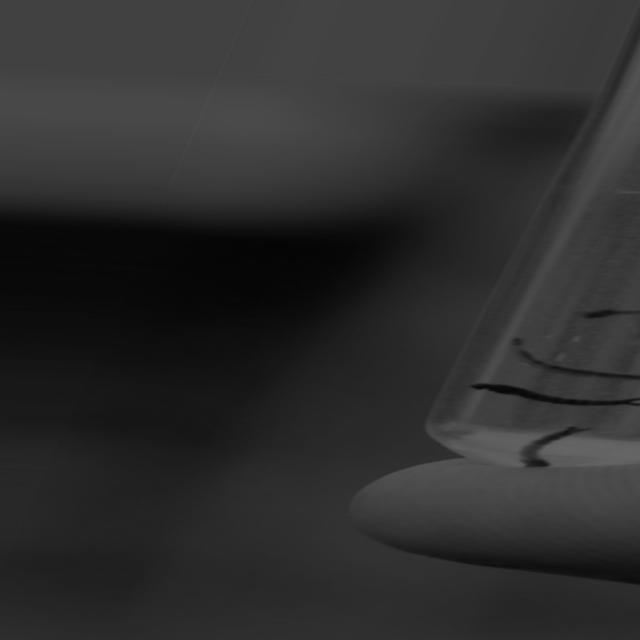larvas: (508, 338, 640, 382), (467, 383, 640, 409), (523, 426, 589, 466), (589, 307, 640, 319)
